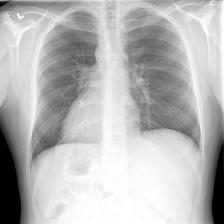normal: (27, 8, 208, 188)
